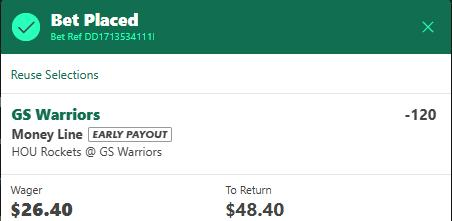game: (10, 145, 164, 160)
odds: (404, 105, 438, 124)
payout: (225, 200, 285, 219)
wager: (10, 200, 74, 218)
